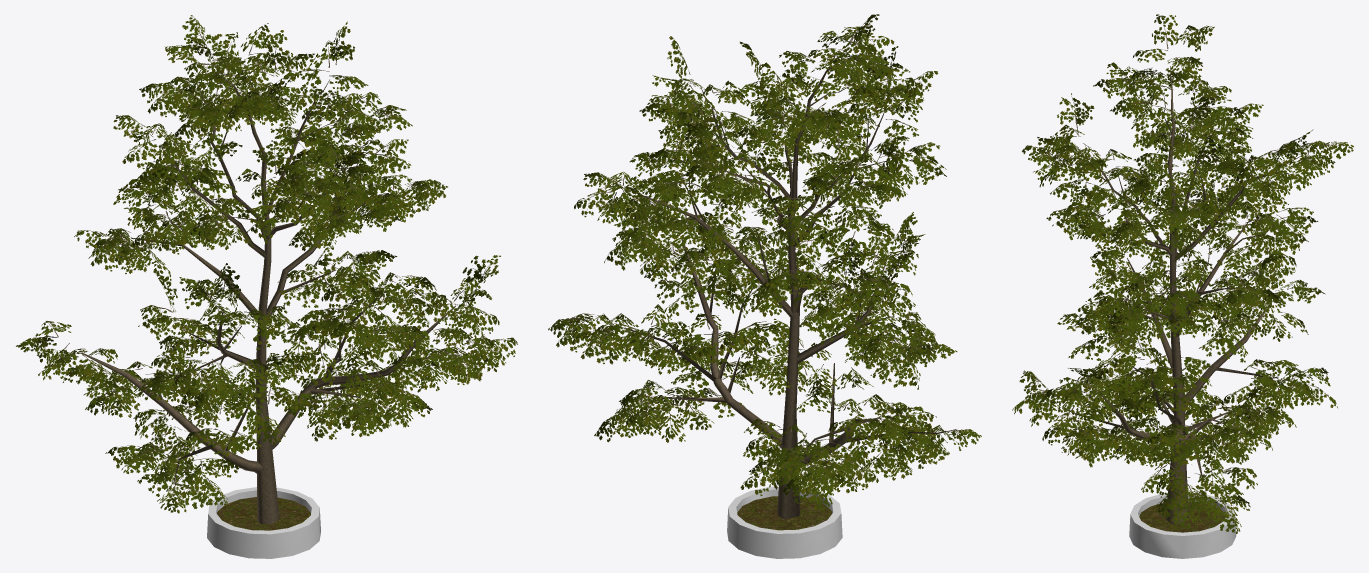
File: nc_tree_02.fbx
3 views of the same model, side by side, from view 1: azimuth 30°, elevation 25°; view 2: azimuth 150°, elevation 25°; view 3: azimuth 270°, elevation 25° (orthographic). The views are drawn at different scales.
Parts seen in each view (by area): view 1: nc_tree_02_LOD0; view 2: nc_tree_02_LOD0; view 3: nc_tree_02_LOD0.
Part boxes in pixels (box(x1,y1,x2,y2)): nc_tree_02_LOD0: box(16, 15, 517, 558); nc_tree_02_LOD0: box(548, 14, 981, 558); nc_tree_02_LOD0: box(1012, 14, 1353, 558).
Size of what is drawn, in the model's own units: 3.89 by 5 by 3.21.
